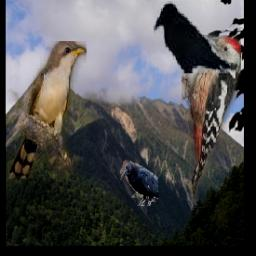Crow: (155, 1, 232, 73), (121, 160, 159, 206)
Cuckoo: (8, 42, 88, 180)
Woodpecker: (182, 36, 241, 198)
